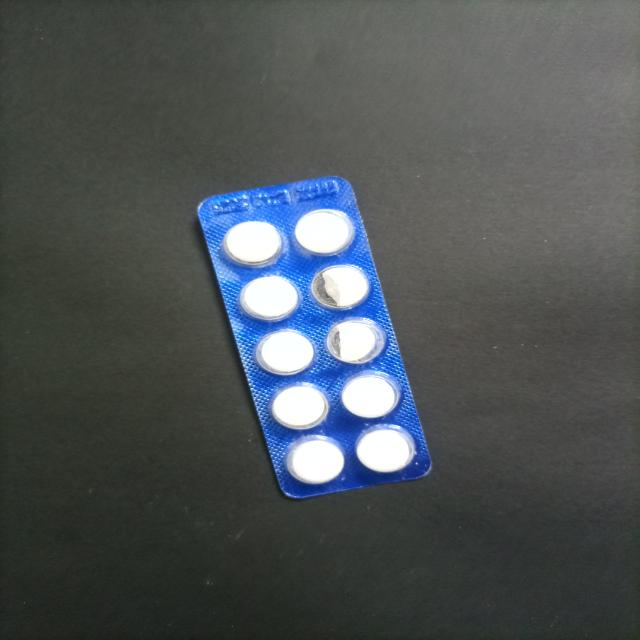defect: (309, 263, 375, 314), (324, 318, 388, 366)
